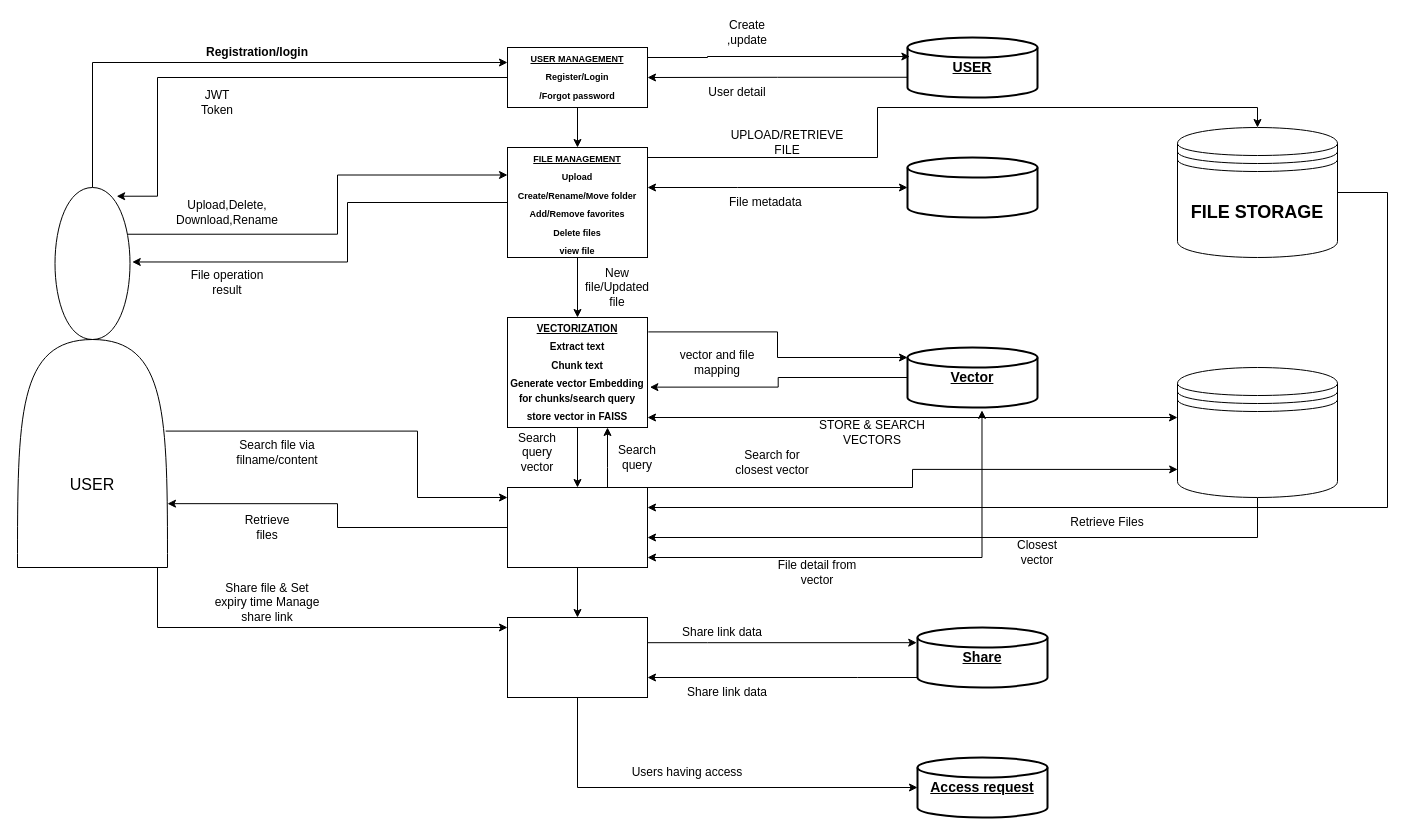
This 1413x835 diagram has some shape labels left out. The shapes that lost their labels are listed below. From the top down, each one's centre as x and y in pixels, then its label:
At point 972,187: "FILES".
At point 1257,432: "FAISS".
At point 577,527: "SEARCH Search via file name search via content retrieve relevent files".
At point 577,657: "SHARING Create Share link set expiry Pre define allowed user".
